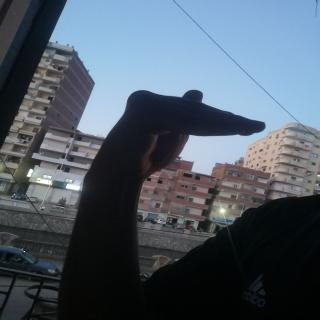KHAA: (88, 87, 268, 191)
